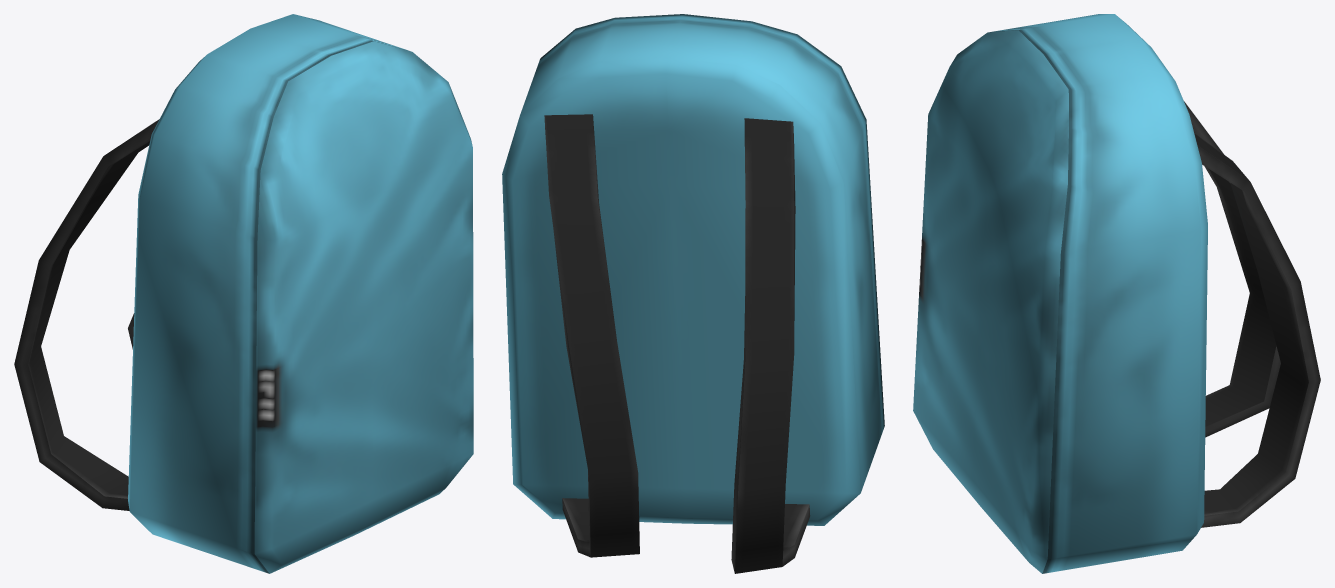
File: SiWangPenQuan_01_beibao_01.FBX
The picture shows the model from 3 angles, left to right: view 1: azimuth 30°, elevation 25°; view 2: azimuth 150°, elevation 25°; view 3: azimuth 270°, elevation 25°; orthographic projection.
Visible parts, largest first — view 1: SiWangPenQuan_01_beibao_01; view 2: SiWangPenQuan_01_beibao_01; view 3: SiWangPenQuan_01_beibao_01.
Part boxes in pixels (<box>): SiWangPenQuan_01_beibao_01: <box>14,14,473,573</box>; SiWangPenQuan_01_beibao_01: <box>502,14,884,573</box>; SiWangPenQuan_01_beibao_01: <box>913,14,1320,573</box>.
Bounding box in the file's own units: 180 × 224 × 177.
